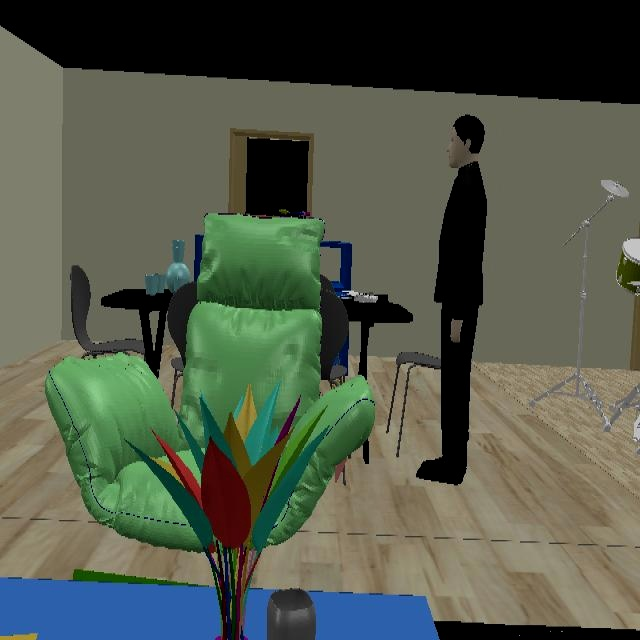chair: (69, 267, 96, 353)
person: (419, 117, 488, 487)
sofa: (47, 215, 373, 619)
table: (0, 579, 223, 640), (307, 591, 440, 640)
